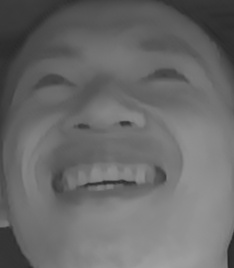eye: (131, 56, 190, 91), (30, 66, 77, 98)
mouth: (46, 143, 170, 210)
